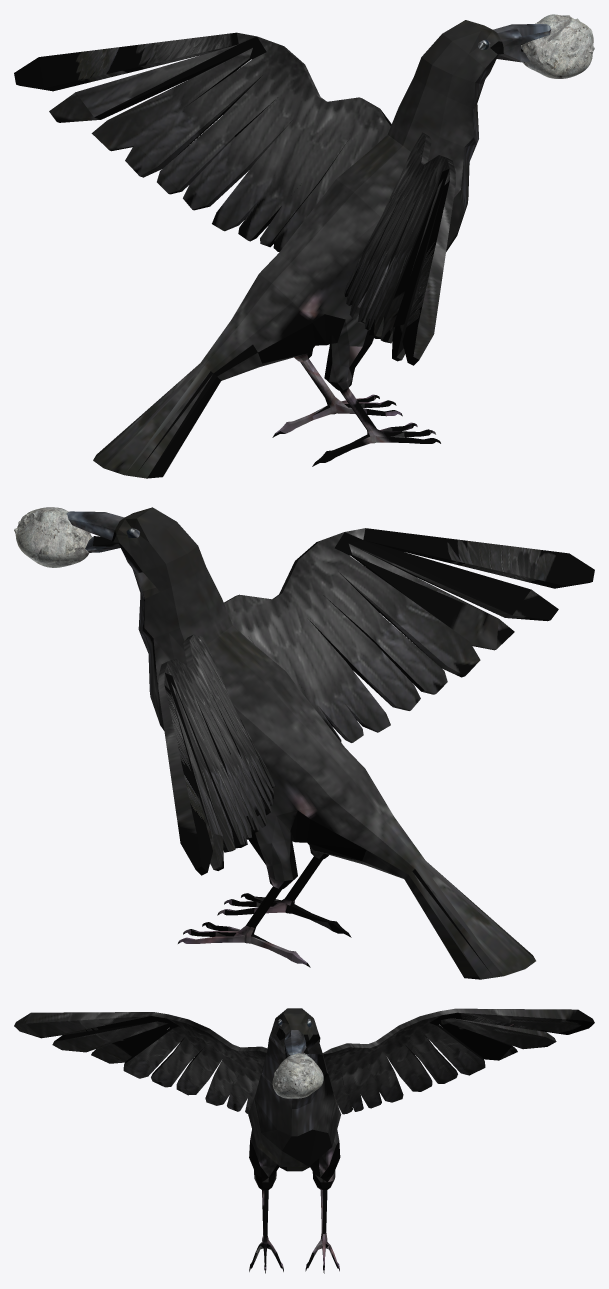
Rendered from crowTextureAnimPebble_000006.obj.
3 views of the same model, one above another, from view 1: azimuth 30°, elevation 25°; view 2: azimuth 150°, elevation 25°; view 3: azimuth 270°, elevation 25° (orthographic). The views are drawn at different scales.
Visible parts, largest first — view 1: Cylinder.001, Cylinder.002, Cylinder.003, Icosphere_Icosphere.002; view 2: Cylinder.001, Cylinder.003, Cylinder.002, Icosphere_Icosphere.002; view 3: Cylinder.002, Cylinder.003, Cylinder.001, Icosphere_Icosphere.002.
Part boxes in pixels (<box>): Cylinder.001: <box>93,20,551,478</box>; Cylinder.002: <box>14,32,391,251</box>; Cylinder.003: <box>344,132,455,365</box>; Icosphere_Icosphere.002: <box>521,14,594,78</box>; Cylinder.001: <box>66,507,535,979</box>; Cylinder.003: <box>224,528,594,742</box>; Cylinder.002: <box>158,634,275,875</box>; Icosphere_Icosphere.002: <box>14,507,92,567</box>; Cylinder.002: <box>322,1008,594,1114</box>; Cylinder.003: <box>14,1012,267,1113</box>; Cylinder.001: <box>248,1008,341,1273</box>; Icosphere_Icosphere.002: <box>272,1053,323,1098</box>.
Bounding box in the file's own units: 5.55 × 4.1 × 7.62.
